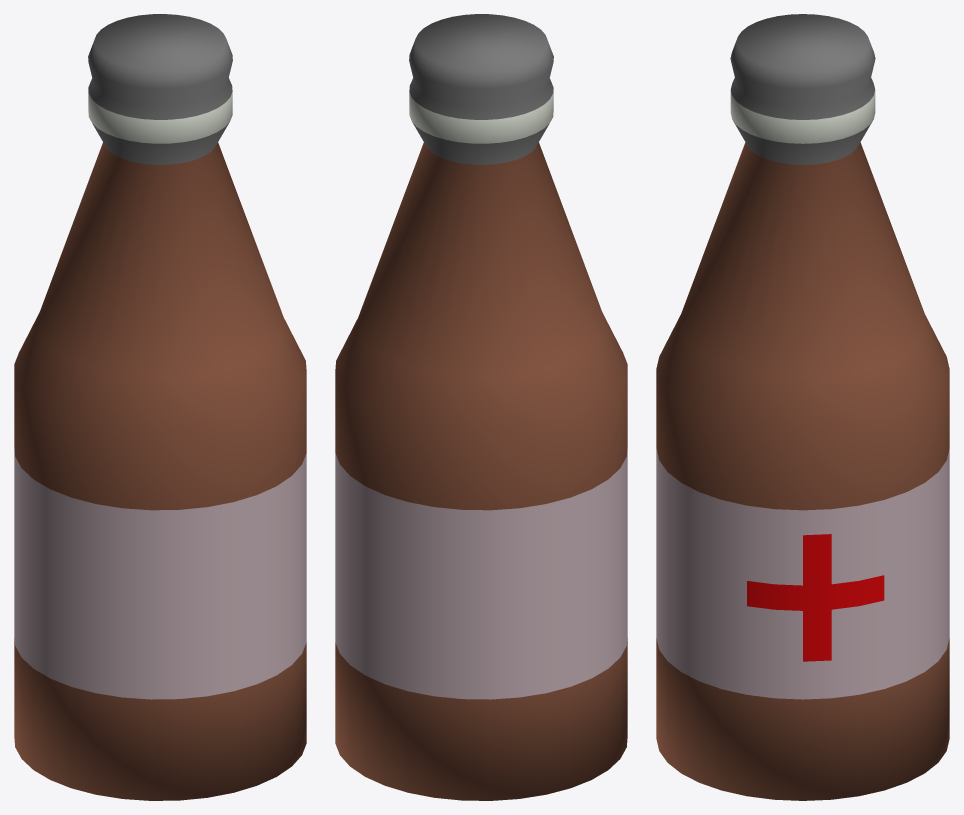
Rendered from PbatPenambahKuatAtauDaras.fbx.
3 views of the same model, side by side, from view 1: azimuth 30°, elevation 25°; view 2: azimuth 150°, elevation 25°; view 3: azimuth 270°, elevation 25° (orthographic).
Visible parts, largest first — view 1: Cylinder; view 2: Cylinder; view 3: Cylinder.
Part boxes in pixels (left/top/right/bottom): Cylinder: left=14, top=14, right=306, bottom=800; Cylinder: left=335, top=14, right=627, bottom=800; Cylinder: left=656, top=14, right=949, bottom=800.
Size of the model in its own units: 143 by 376 by 143.
